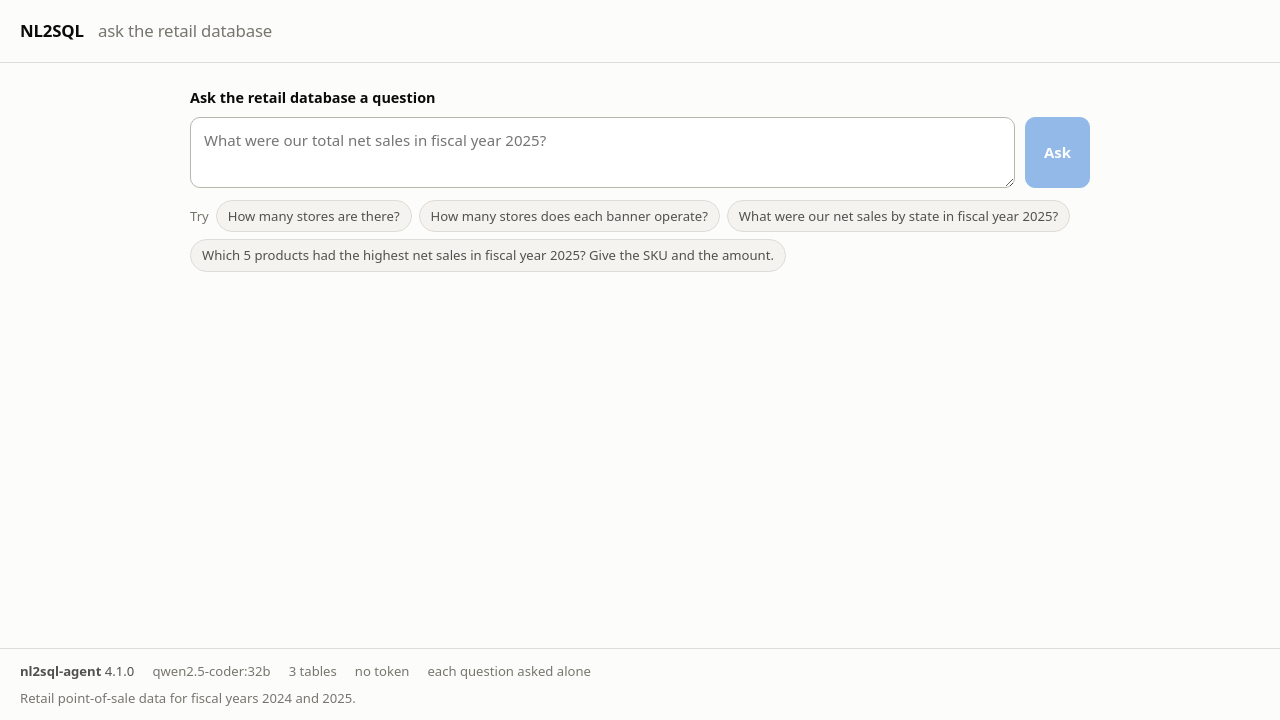
App › tells the user when it has given up on streaming
The image size is (1280, 720).
Click the button "How many stores are there?" at (314,216), box [216,200,412,232]
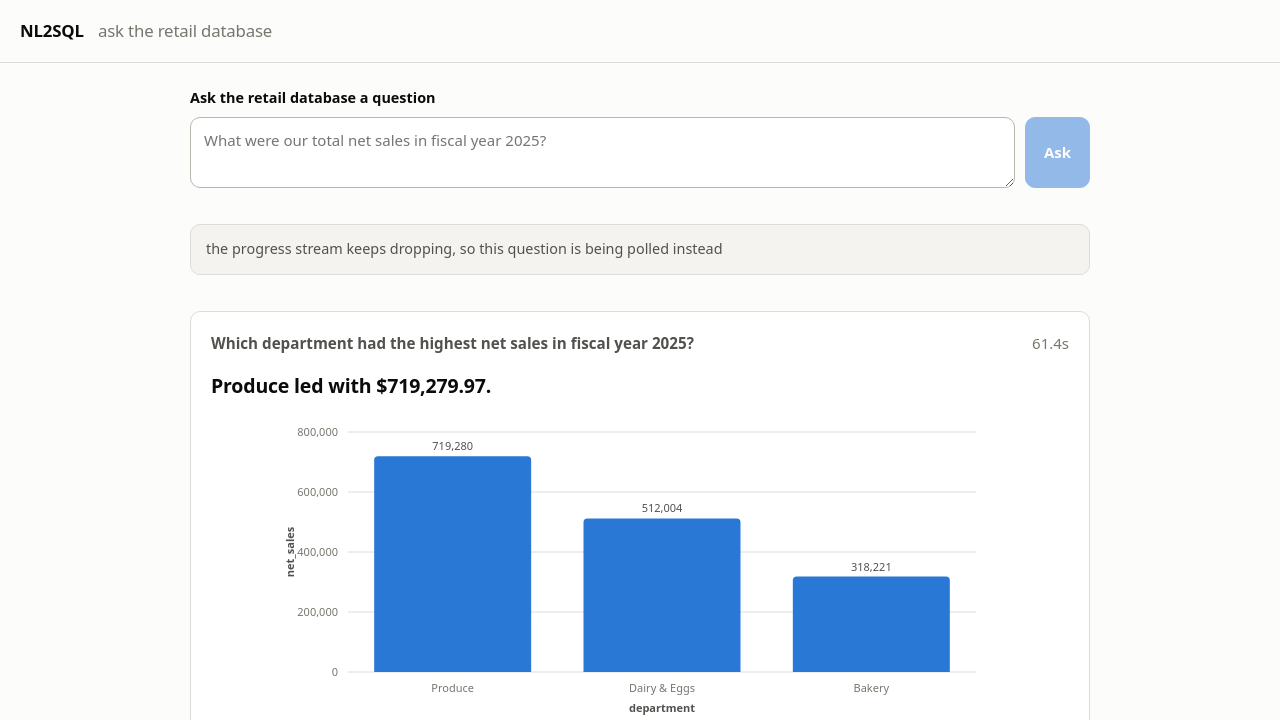
Now the text "the progress stream keeps dropping, so this question is being polled instead" is shown, box [190,224,1090,275]
